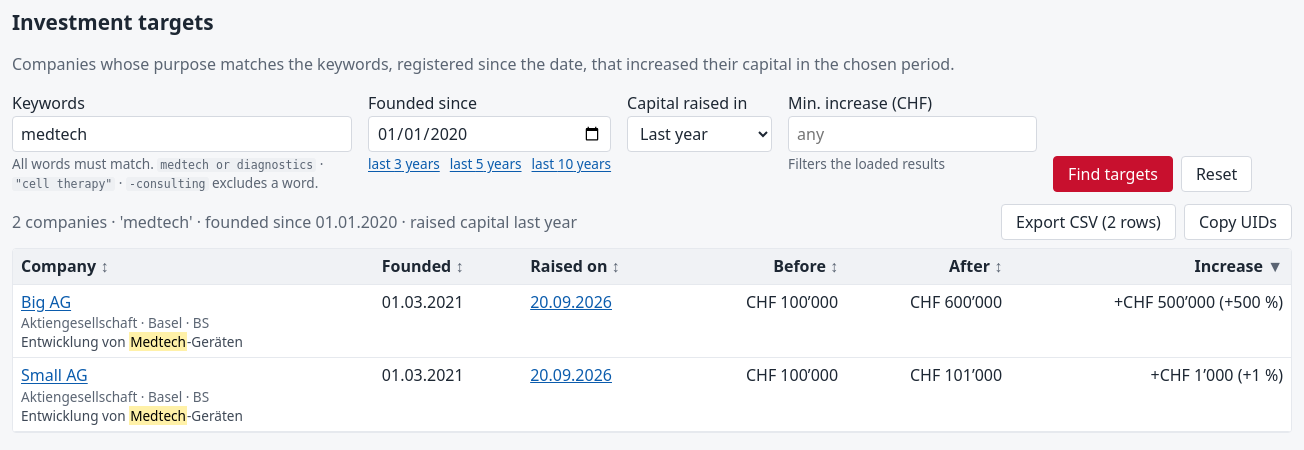
Test: filters by minimum increase and reports the count
Expected: the button "Small AG" is shown, top-left (21, 364), bottom-right (88, 386)
Type "50000" into the number field labelled "Min. increase (CHF)" at [913, 134], box top-left (788, 116), bottom-right (1037, 152)
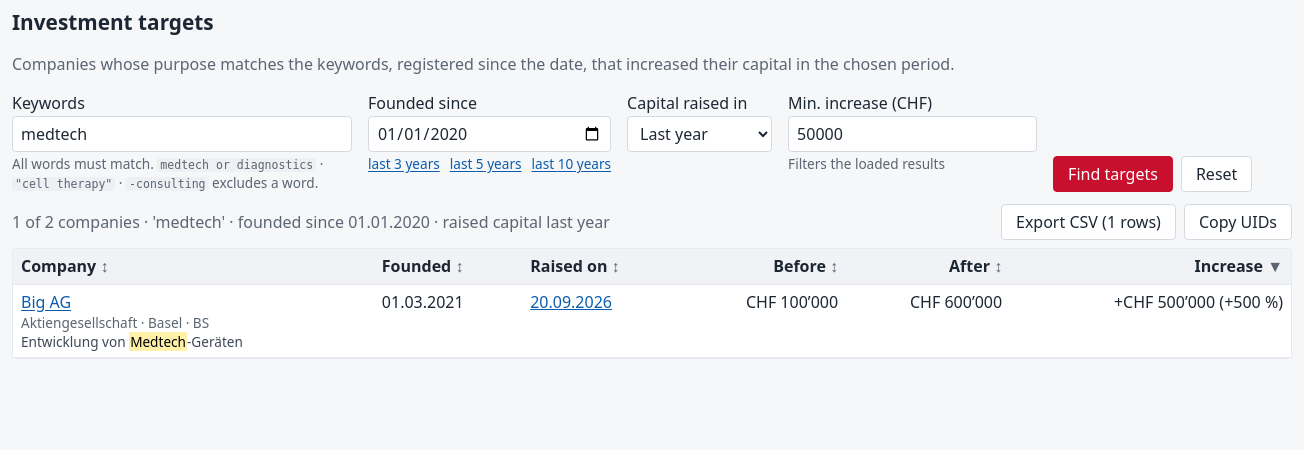
Result: the button "Small AG" is gone
Result: the text "1 of 2 companies" is shown at top-left (12, 211), bottom-right (610, 233)
